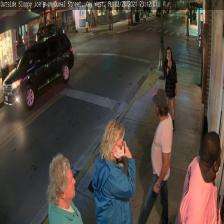person: (138, 88, 173, 224), (92, 119, 135, 224), (176, 131, 222, 223), (47, 153, 85, 223), (162, 46, 178, 130)
